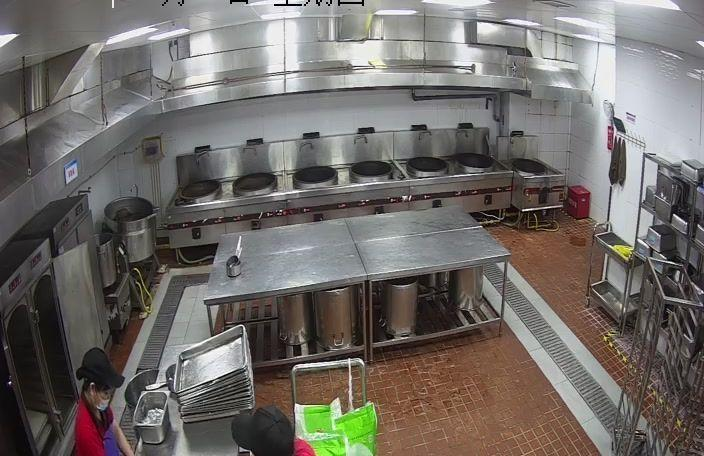mask: (95, 388, 113, 412)
